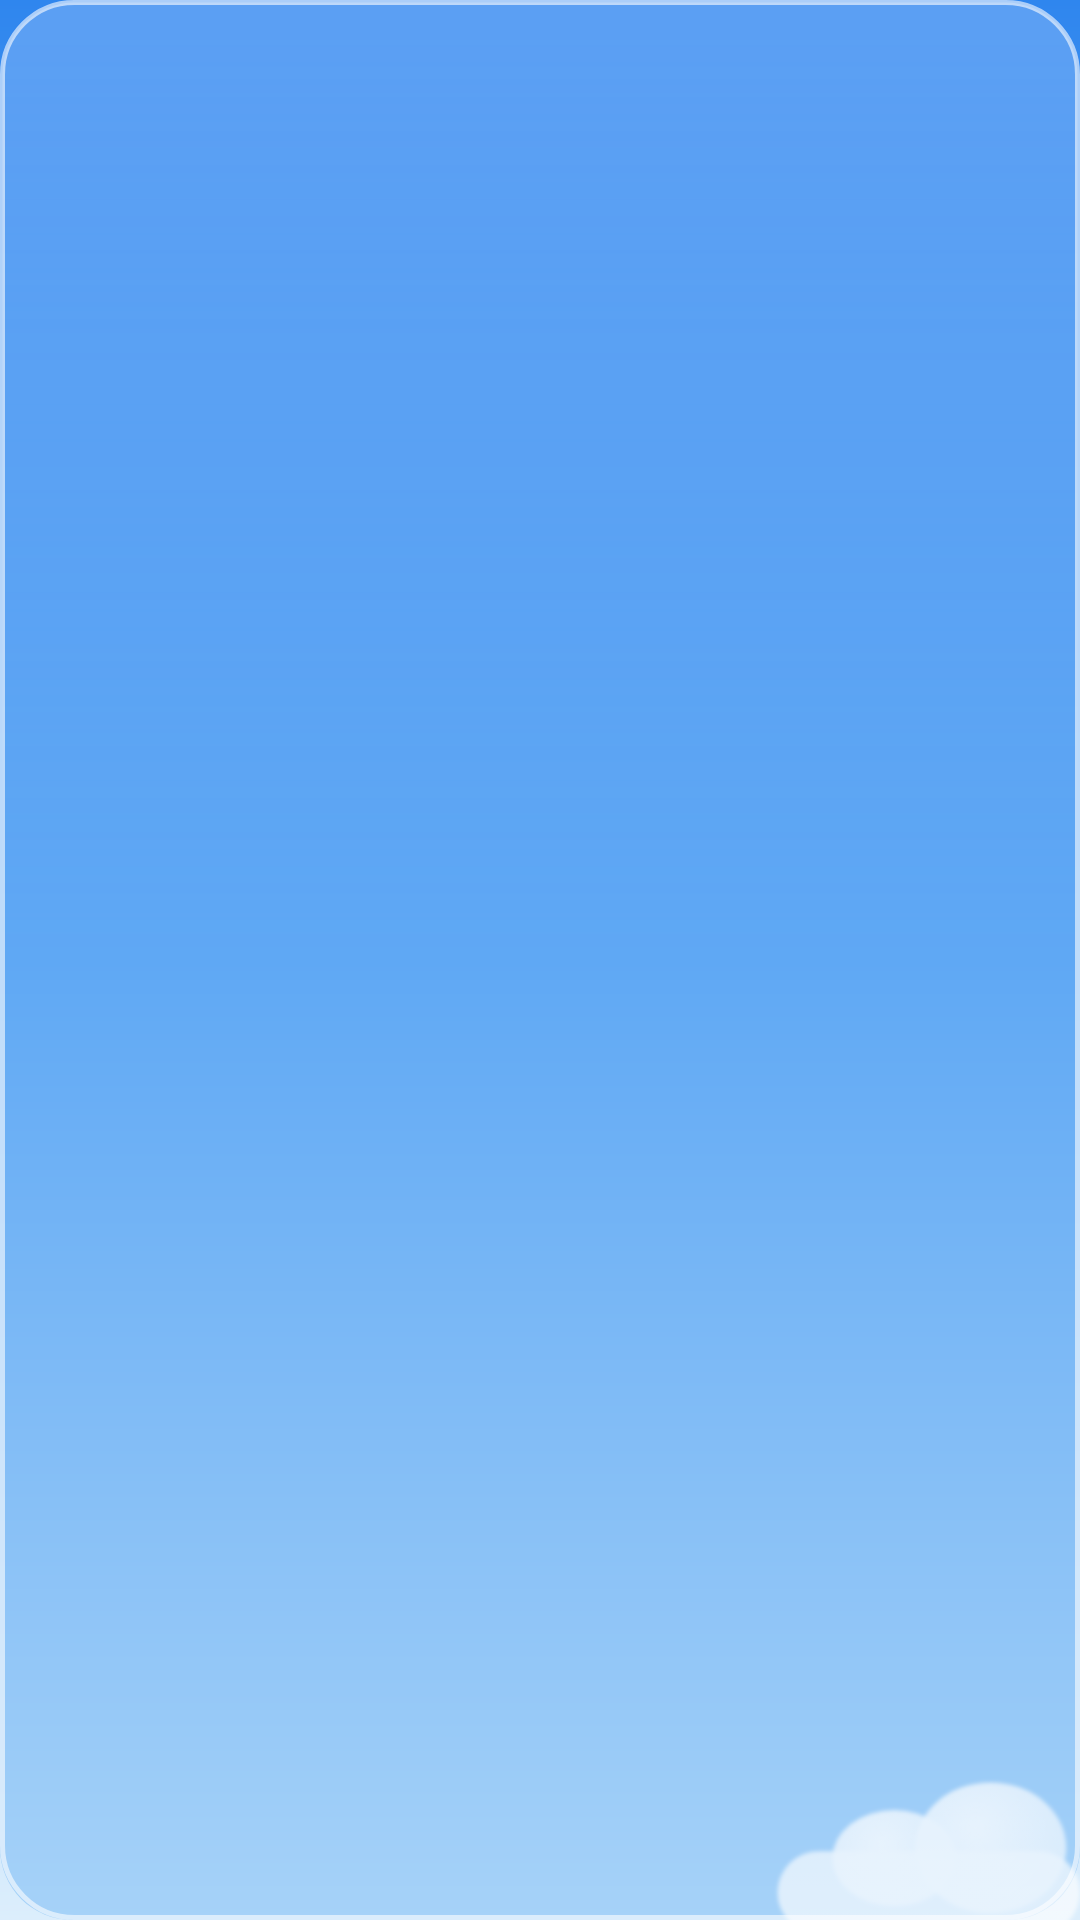

Screen size 1080px x 1920px. Icon name, then its center in pixels as (x,y):
deco cloud: (915,1837)
